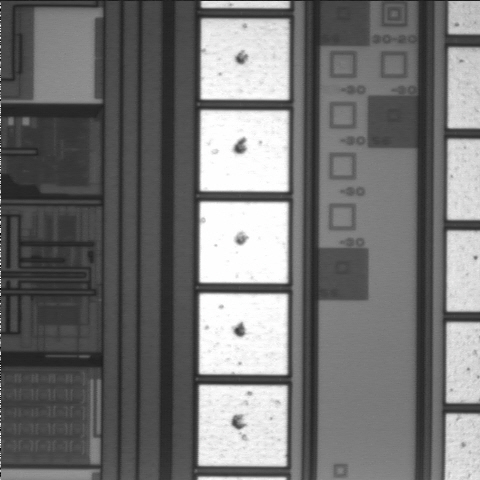pad: (200, 110, 289, 192), (199, 293, 288, 375), (199, 202, 288, 283), (198, 385, 287, 466), (201, 19, 289, 100)
